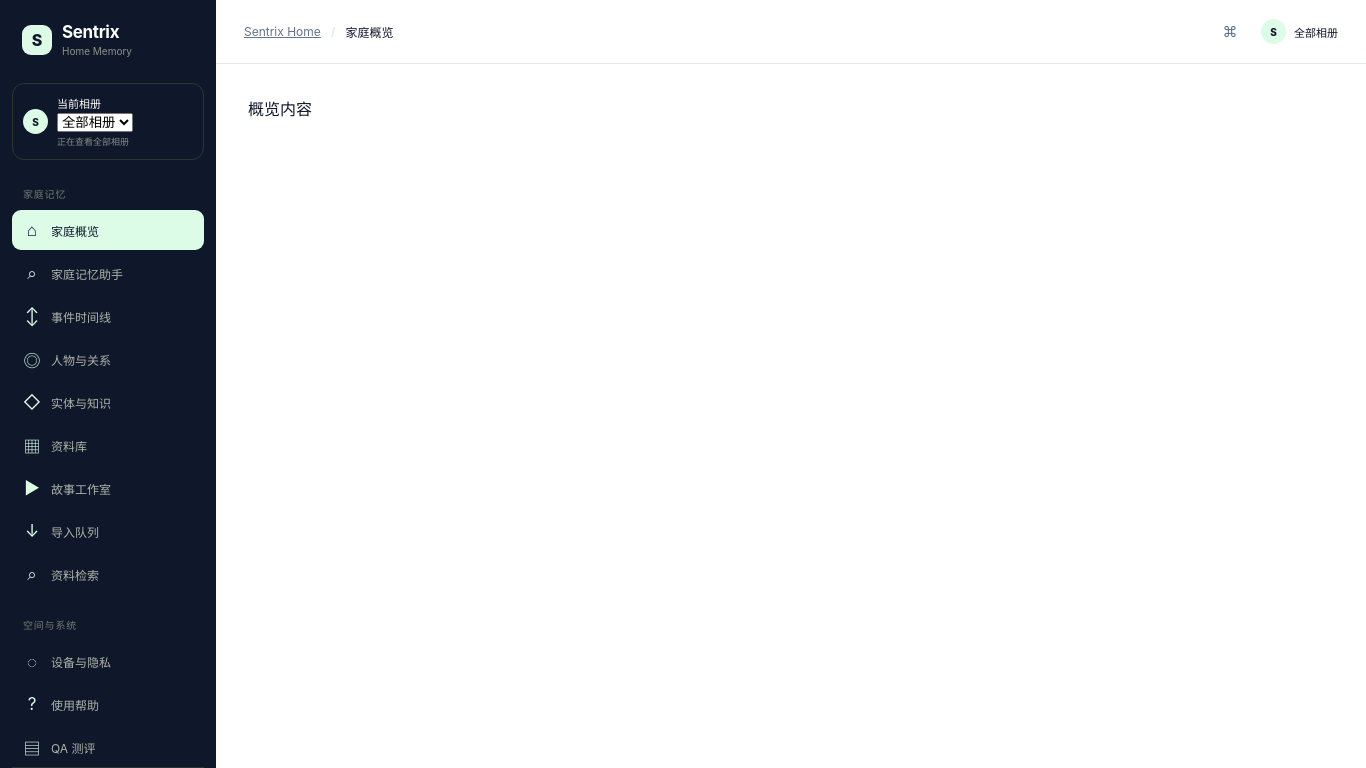
AppShell 壳层入口 › 顶栏 ⌘ 打开命令面板（只是按钮，不注册全局快捷键）
Click the button named "打开命令搜索": (1230, 32) [1213, 14, 1247, 48]
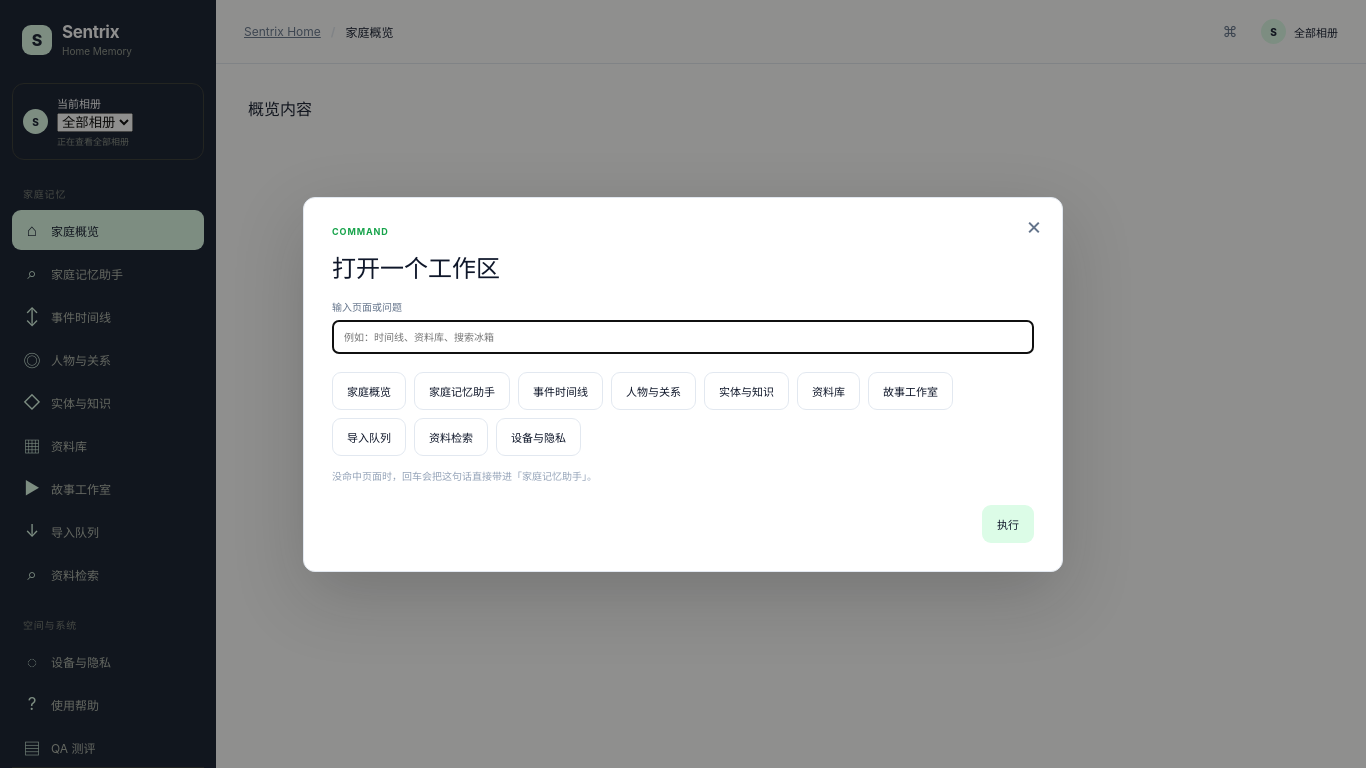
Expected: the dialog "打开一个工作区" is shown, [303, 196, 1063, 572]
